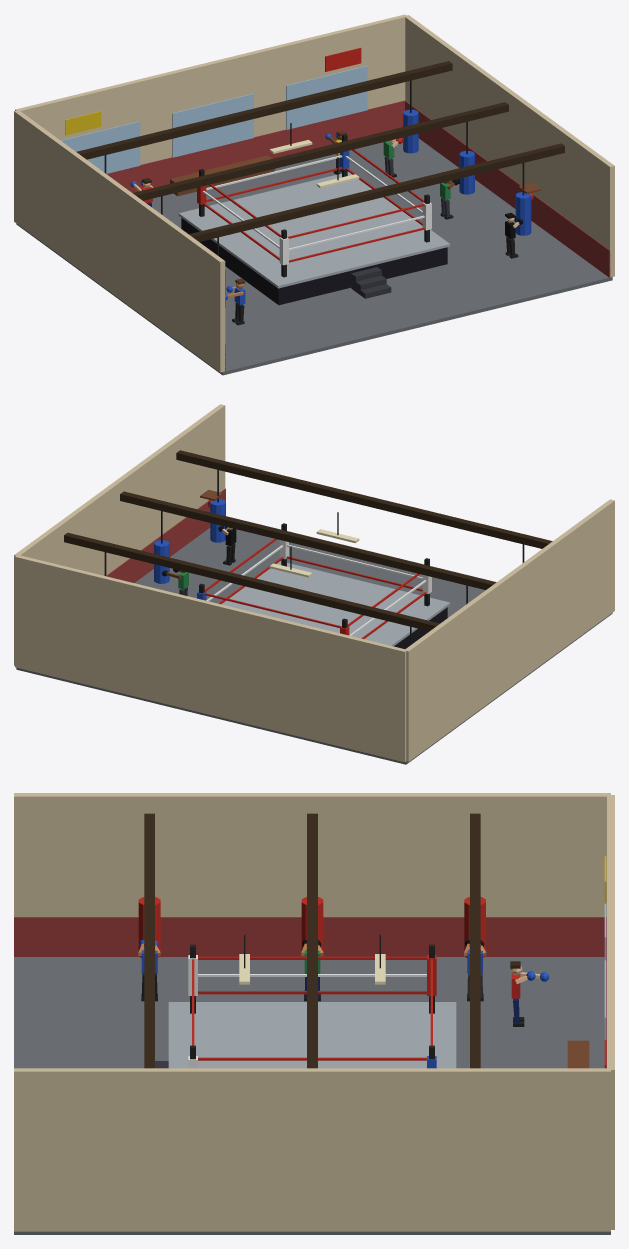
Rendered from escenario_gimnasio.obj.
3 views of the same model, one above another, from view 1: azimuth 30°, elevation 25°; view 2: azimuth 150°, elevation 25°; view 3: azimuth 270°, elevation 25° (orthographic). The views are drawn at different scales.
Visible parts, largest first — view 1: piso, pared_izq, pared_fondo, pared_der, ring_lona, friso_fondo, friso_der, viga_0, viga_1, viga_2, ring_plataforma, espejo_1 (+11 smaller); view 2: pared_fondo, pared_izq, pared_der, piso, ring_lona, viga_2, viga_0, viga_1, friso_der, ring_cuerda_1, ring_cuerda_2, ring_cuerda_0 (+1 smaller); view 3: pared_der, pared_izq, piso, friso_izq, ring_lona, pared_fondo, viga_0, viga_1, viga_2, ring_cuerda_2, ring_cuerda_0, banco (+2 smaller).
Boxes of the visible parts, box(x1,y1,x2,y2) form: piso: box(16, 138, 612, 375); pared_izq: box(14, 110, 225, 372); pared_fondo: box(15, 14, 407, 164); pared_der: box(404, 15, 614, 277); ring_lona: box(178, 172, 450, 288); friso_fondo: box(106, 100, 404, 192); friso_der: box(405, 100, 610, 277); viga_0: box(76, 61, 452, 159); viga_1: box(132, 102, 508, 200); viga_2: box(189, 143, 564, 241); ring_plataforma: box(181, 218, 447, 305); espejo_1: box(172, 93, 253, 157); pared_fondo: box(15, 555, 406, 762); pared_izq: box(405, 499, 614, 761); pared_der: box(14, 404, 225, 665); piso: box(16, 516, 612, 764); ring_lona: box(221, 561, 450, 646); viga_2: box(176, 450, 552, 548); viga_0: box(64, 532, 439, 631); viga_1: box(120, 491, 495, 589); friso_der: box(106, 488, 225, 582); ring_cuerda_1: box(206, 544, 426, 636); ring_cuerda_2: box(204, 538, 419, 627); ring_cuerda_0: box(218, 556, 426, 638); pared_der: box(14, 1068, 610, 1231); pared_izq: box(14, 793, 610, 916); piso: box(14, 957, 610, 1234); friso_izq: box(14, 917, 604, 956); ring_lona: box(168, 1002, 456, 1068); pared_fondo: box(607, 795, 614, 1229); viga_0: box(470, 813, 480, 1068); viga_1: box(307, 813, 317, 1068); viga_2: box(144, 813, 154, 1068); ring_cuerda_2: box(192, 956, 432, 1060); ring_cuerda_0: box(198, 991, 426, 994); banco: box(567, 1040, 589, 1068).
Bounding box in the file's own units: 24.3 × 6.7 × 22.15.
